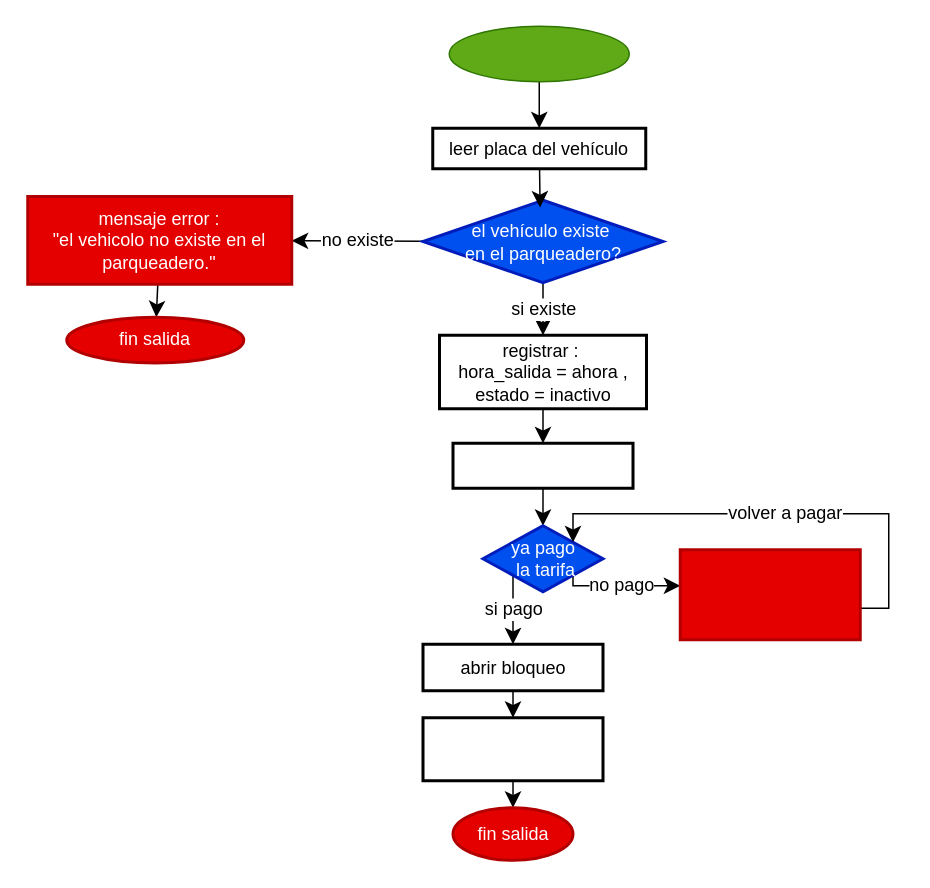
Some shapes in this 930 by 888 pixel diagram are drawn without their labels. Each missing label, with the centre of its shape:
calcular tarifa: the point at 542,465
inicio registrar salida: the point at 538,53
mensaje error : " no paso el pago ": the point at 769,594
mostrar "vuelva pronto": the point at 512,749
